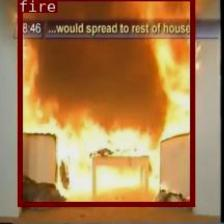fire: (17, 0, 193, 205)
